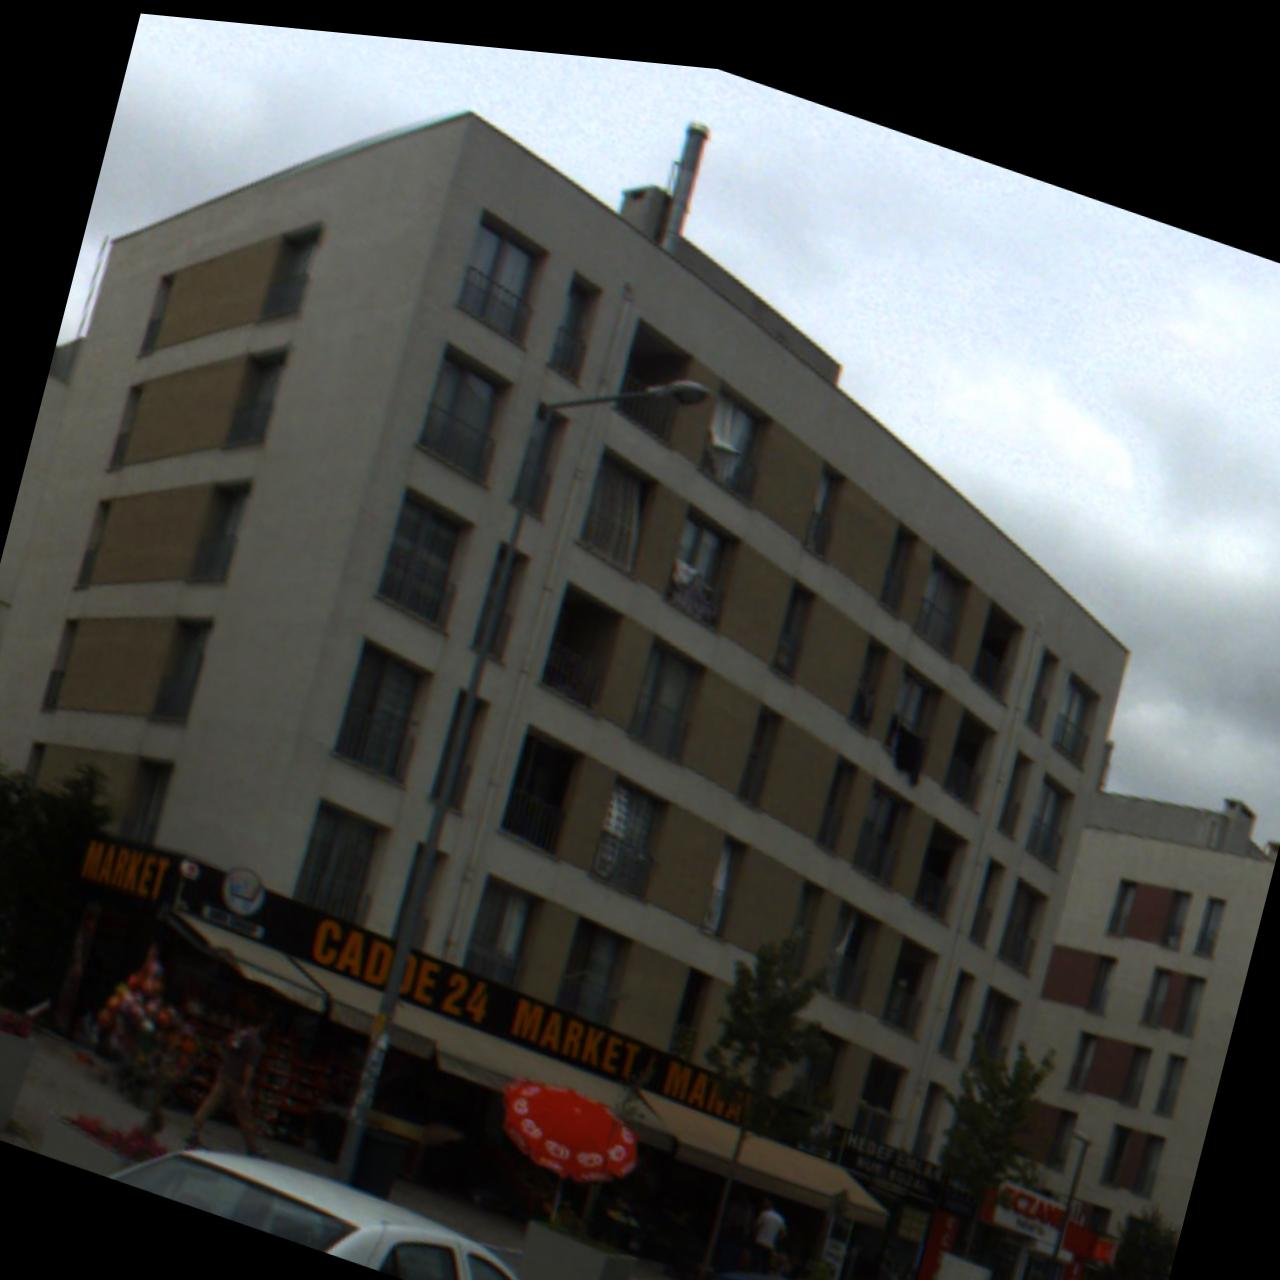SignStore: (79, 830, 849, 1146), (838, 1112, 978, 1201), (990, 1160, 1068, 1224)
